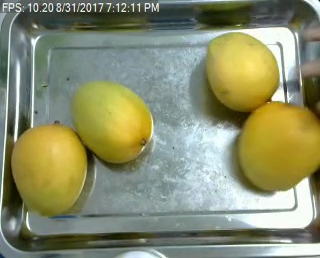Mango: (238, 94, 320, 192), (66, 80, 159, 166), (8, 123, 90, 219), (202, 32, 281, 112)
